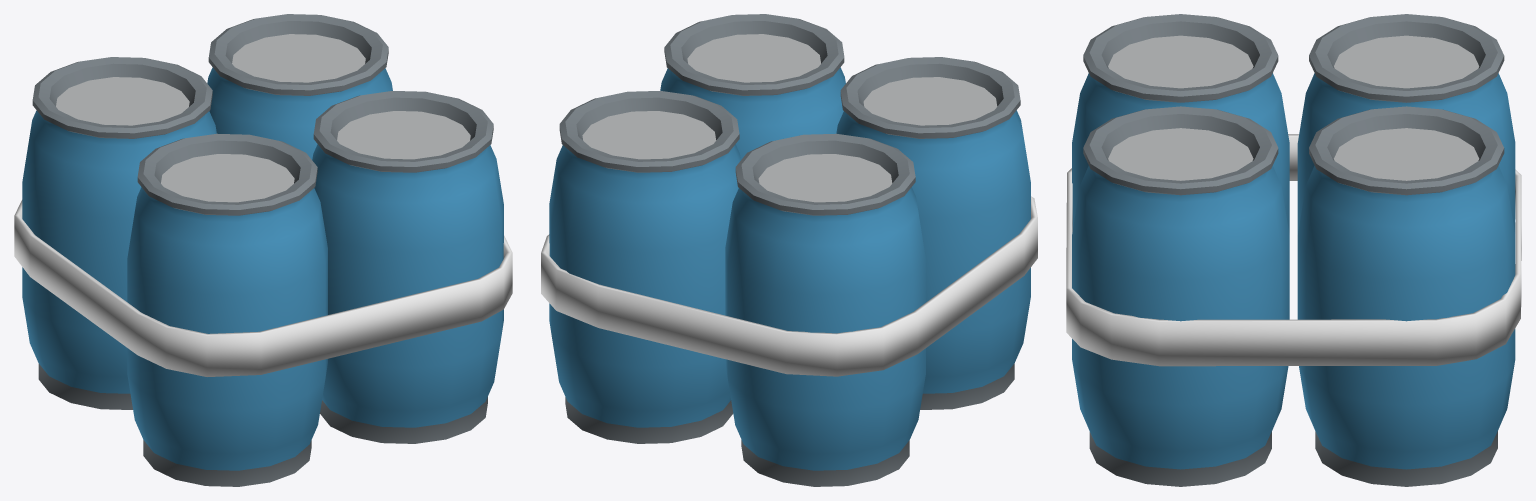
Rendered from BarrelQuad (1).fbx.
The picture shows the model from 3 angles, left to right: view 1: azimuth 30°, elevation 25°; view 2: azimuth 150°, elevation 25°; view 3: azimuth 270°, elevation 25°; orthographic projection. The views are drawn at different scales.
Parts seen in each view (by area): view 1: BarrelQuad, BarrelQuadBand; view 2: BarrelQuad, BarrelQuadBand; view 3: BarrelQuad, BarrelQuadBand.
Part boxes in pixels (<box>): BarrelQuad: <box>22,14,503,486</box>; BarrelQuadBand: <box>14,200,512,376</box>; BarrelQuad: <box>549,14,1030,486</box>; BarrelQuadBand: <box>541,196,1037,376</box>; BarrelQuad: <box>1072,14,1515,486</box>; BarrelQuadBand: <box>1066,134,1521,366</box>.
Bounding box in the file's own units: 156 × 117 × 160.
1 material, 1 textured.
